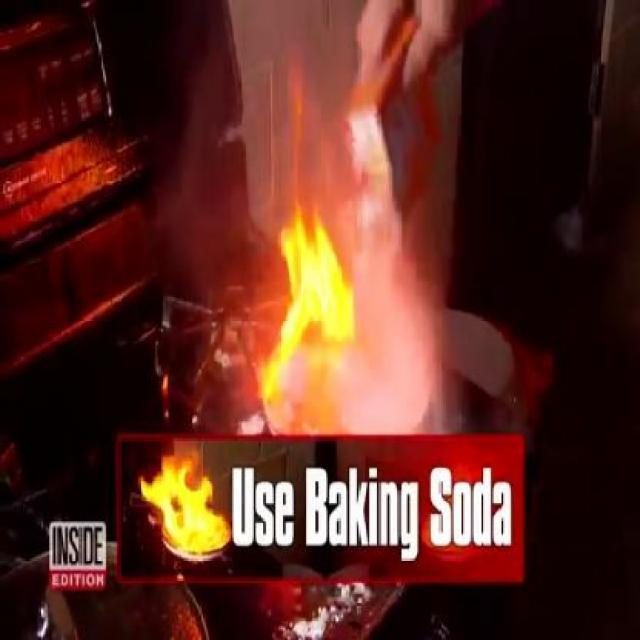fire: (266, 222, 342, 372), (156, 453, 221, 555)
smoke: (354, 245, 449, 432)
